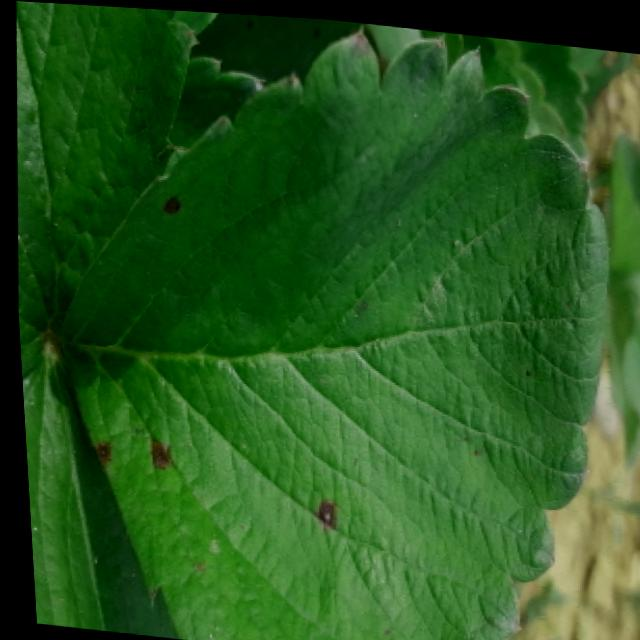Leaf Spot: (52, 25, 610, 640), (15, 1, 191, 372), (188, 10, 364, 82)
